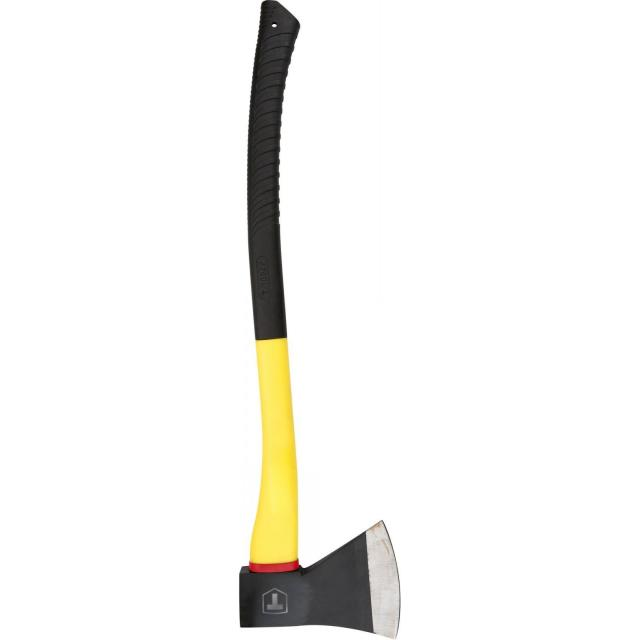Kapak: (118, 18, 462, 620)
